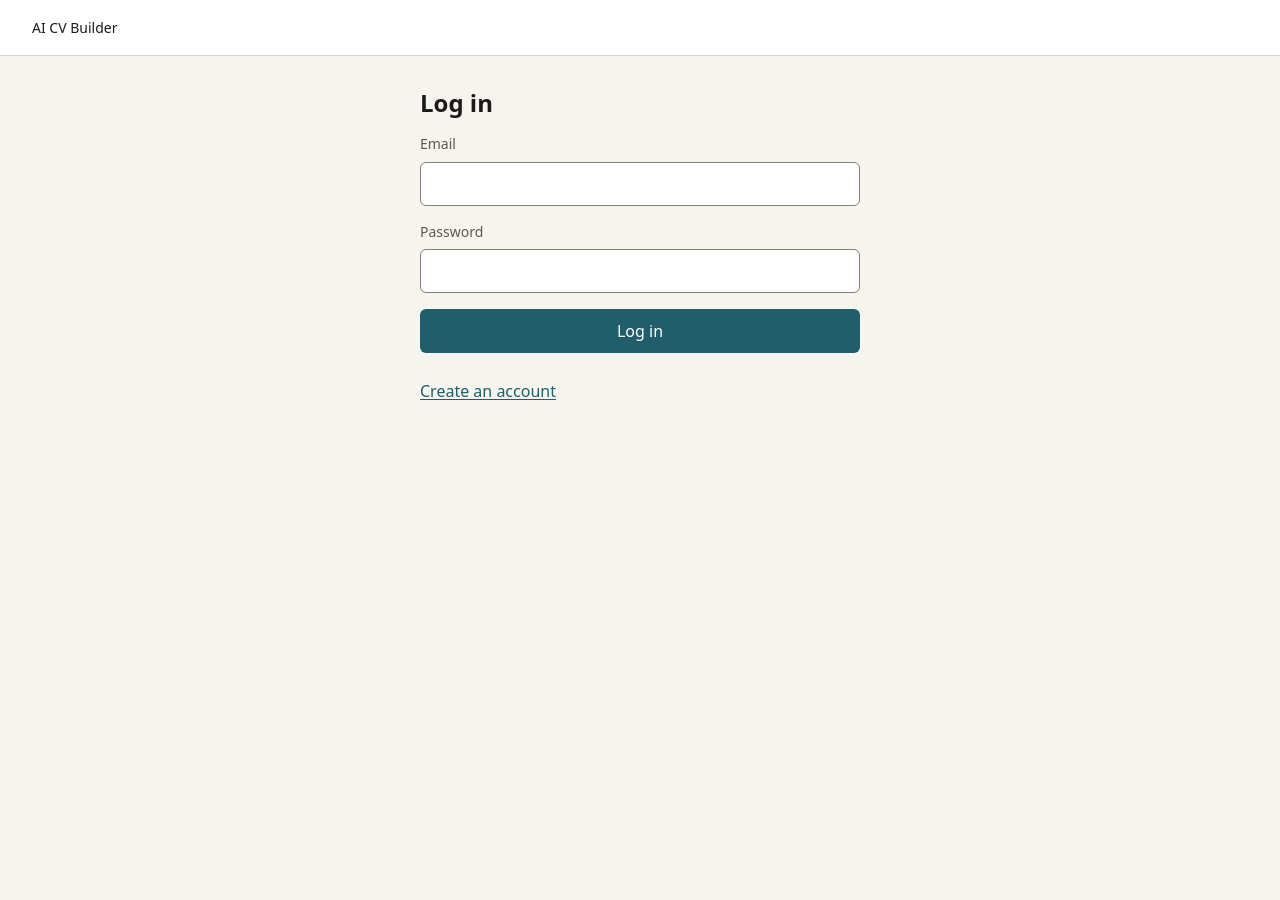
sign-in keeps the requested destination (QA-09) › after signing in from a deep link to a CV, lands on that CV and loads it
Type "ana@example.com" into the field labelled "Email" at (640, 184), box 420,162 -> 860,206
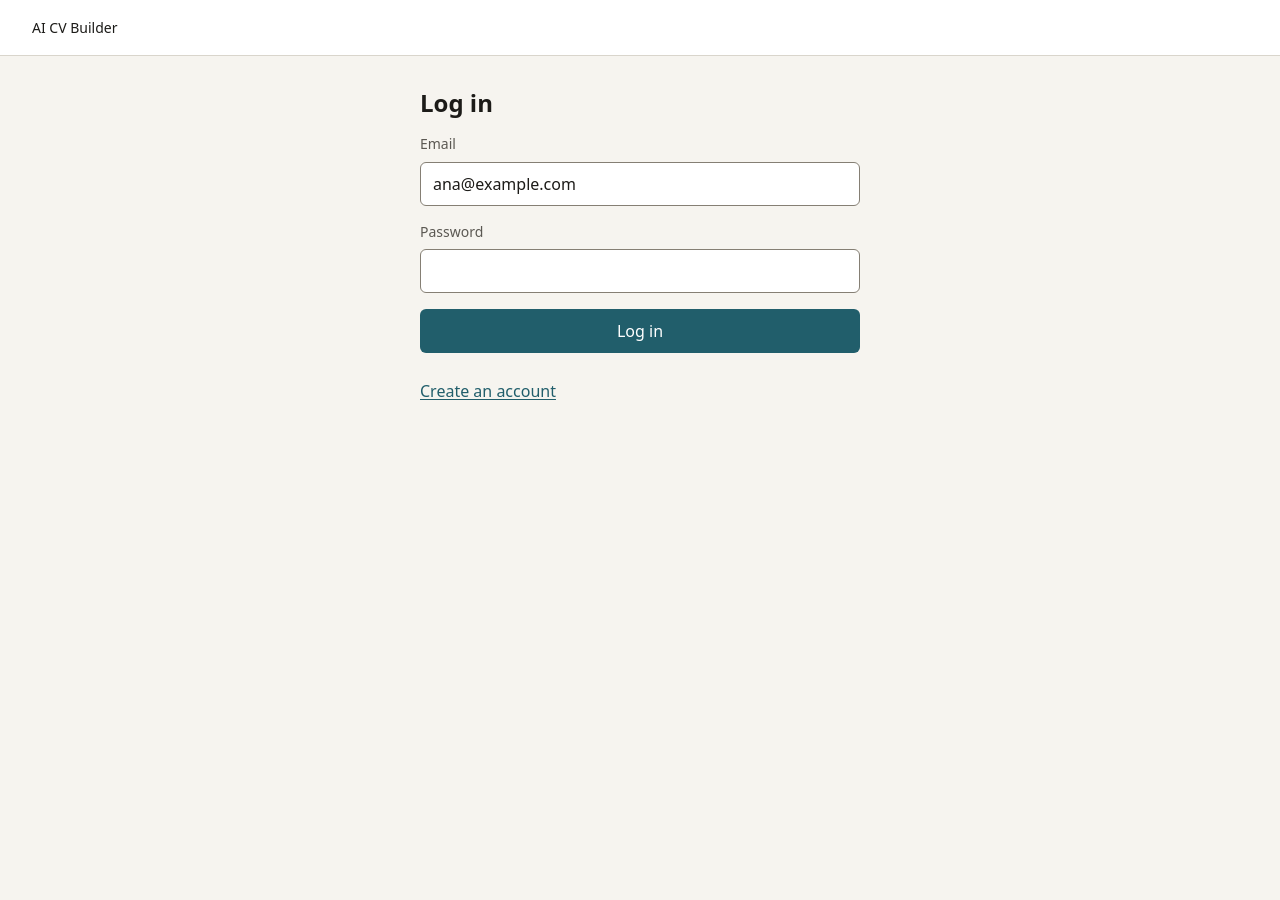
Type "correct-horse-battery" into the password field labelled "Password" at (640, 271), box 420,249 -> 860,293
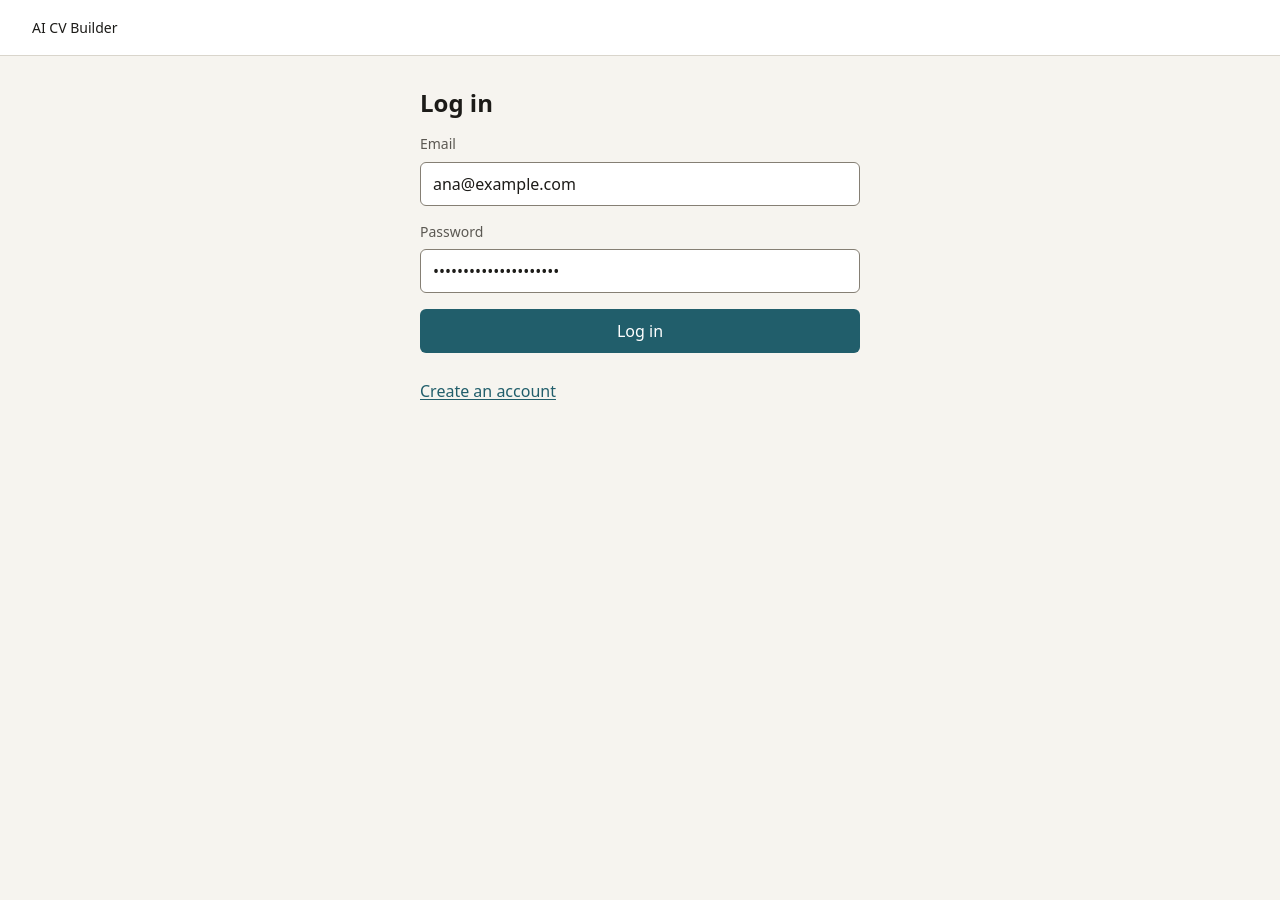
Submit the form labelled "Email Password Log in", box 420,134 -> 860,353
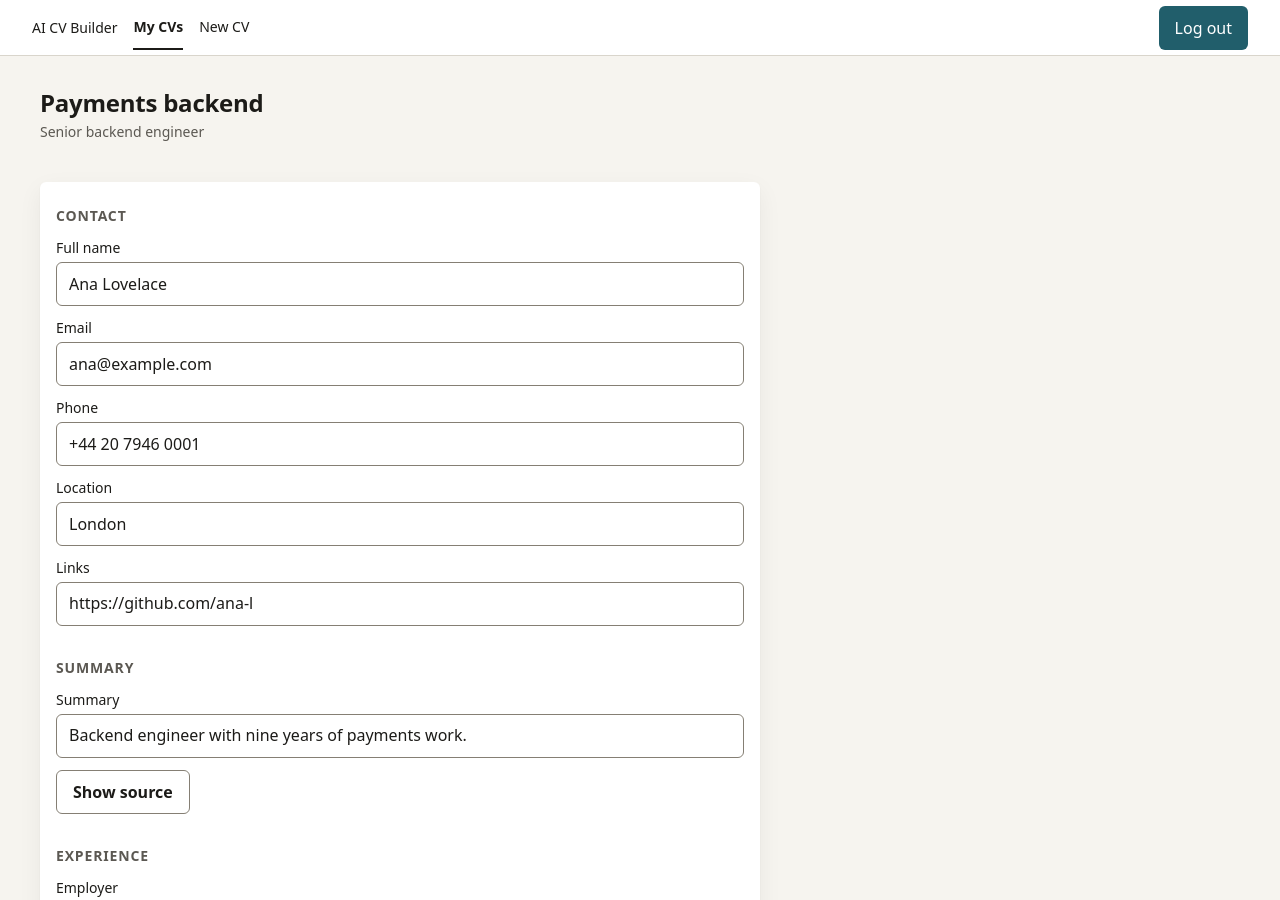
Expected: the field labelled "Full name" holds "Ana Lovelace", 56,262 -> 744,306
